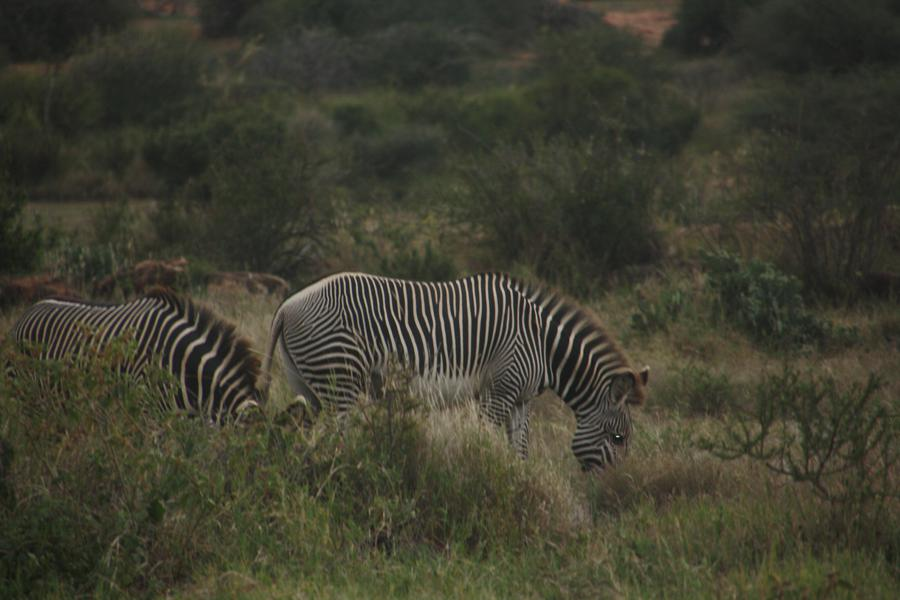zebra_grevys: (274, 258, 537, 400)
